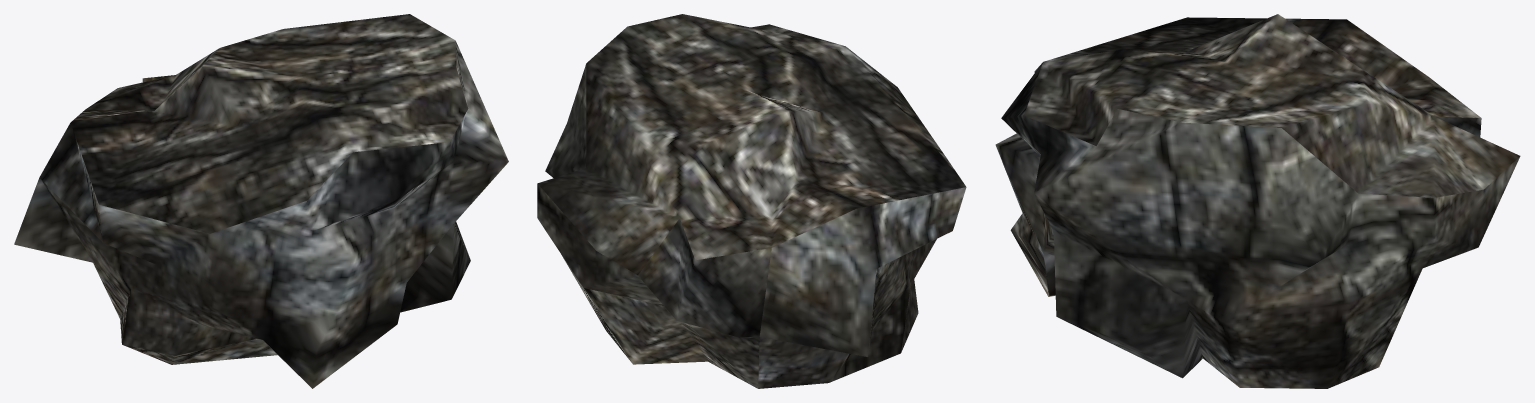
The model's file is Rock8.fbx.
3 renders of one model, left to right at view 1: azimuth 30°, elevation 25°; view 2: azimuth 150°, elevation 25°; view 3: azimuth 270°, elevation 25°, orthographic. The views are drawn at different scales.
Parts seen in each view (by area): view 1: Rock8; view 2: Rock8; view 3: Rock8.
Boxes of the visible parts, x1=… form: Rock8: x1=14, y1=14, x2=508, y2=388; Rock8: x1=537, y1=14, x2=966, y2=388; Rock8: x1=995, y1=14, x2=1520, y2=388.
Size of the model in its own units: 9.41 by 6.23 by 9.96.
